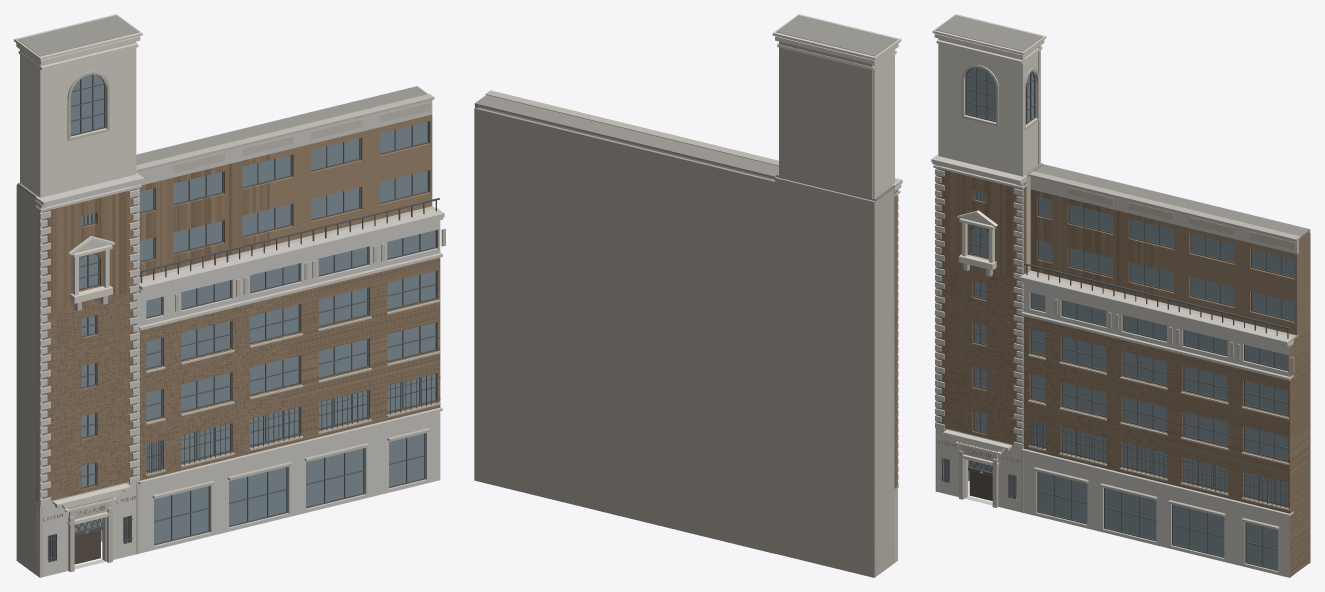
File: huangpu-rockbund-lyceum-building-raw.glb
3 renders of one model, left to right at view 1: azimuth 30°, elevation 25°; view 2: azimuth 150°, elevation 25°; view 3: azimuth 330°, elevation 25°, orthographic. The views are drawn at different scales.
Visible parts, largest first — view 1: 兰心大楼圆明园路入口塔楼与东立面; view 2: 兰心大楼圆明园路入口塔楼与东立面; view 3: 兰心大楼圆明园路入口塔楼与东立面.
Part boxes in pixels (x1,y1,x2,y2): 兰心大楼圆明园路入口塔楼与东立面: (14, 14, 445, 577); 兰心大楼圆明园路入口塔楼与东立面: (474, 14, 902, 577); 兰心大楼圆明园路入口塔楼与东立面: (931, 14, 1310, 577).
Bounding box in the file's own units: 28.91 × 35.45 × 3.53.
Materials: 10 (1 with a texture image).
